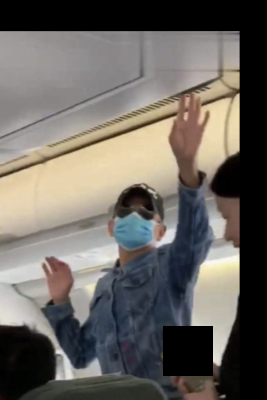with_mask: (112, 199, 158, 252)
without_mask: (215, 200, 238, 259)
